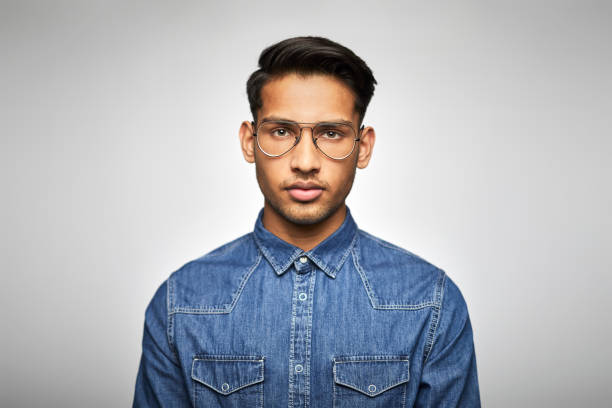person: (236, 35, 378, 229)
